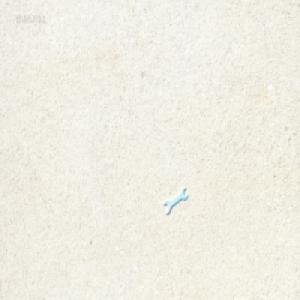Wrench: (163, 185, 188, 213)
